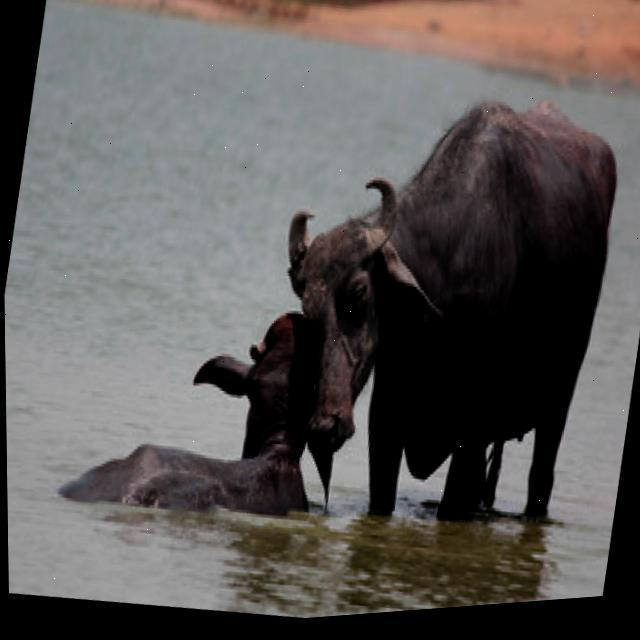Buffalo: (247, 58, 623, 544)
